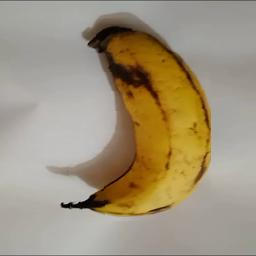Banana Semifresh: (61, 24, 211, 222)
